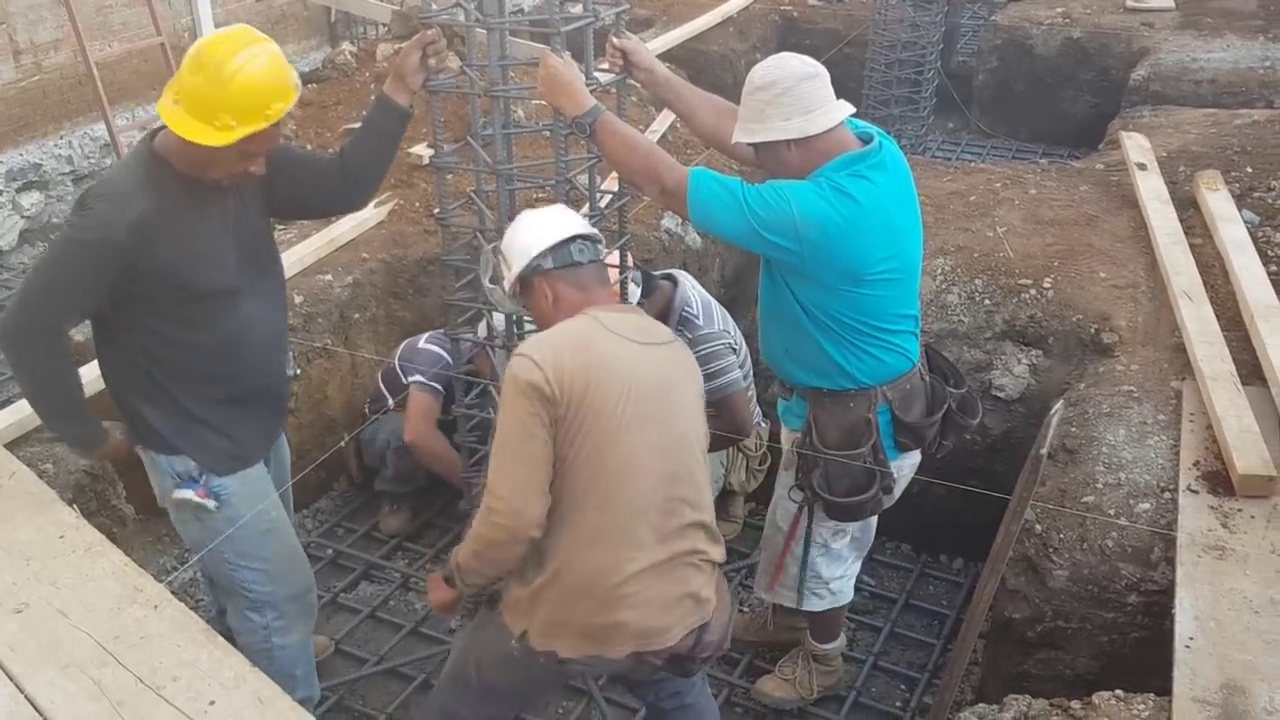helmet: (158, 22, 308, 148), (490, 206, 610, 296), (607, 243, 633, 289)
helmet-off: (727, 50, 865, 185), (456, 309, 540, 387)
helmet-on: (139, 23, 304, 192), (485, 196, 621, 327), (605, 244, 681, 326)
person: (15, 17, 442, 710), (539, 23, 938, 693), (439, 197, 737, 720), (605, 238, 765, 534), (355, 315, 538, 536)
